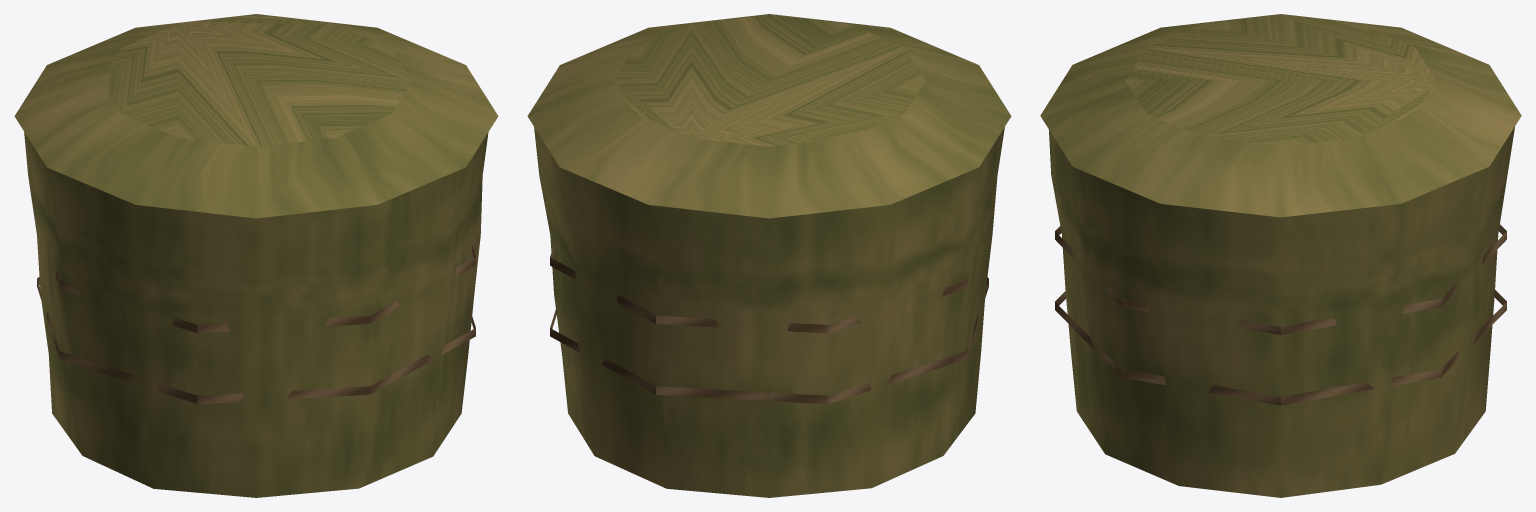
Rendered from PROP_Storage.fbx.
3 renders of one model, left to right at view 1: azimuth 30°, elevation 25°; view 2: azimuth 150°, elevation 25°; view 3: azimuth 270°, elevation 25°, orthographic.
Parts seen in each view (by area): view 1: PROP_Storage; view 2: PROP_Storage; view 3: PROP_Storage.
Boxes of the visible parts, <box> form: PROP_Storage: <box>14,14,498,497</box>; PROP_Storage: <box>527,14,1011,497</box>; PROP_Storage: <box>1040,14,1521,497</box>.
Bounding box in the file's own units: 0.62 × 0.47 × 0.62.
